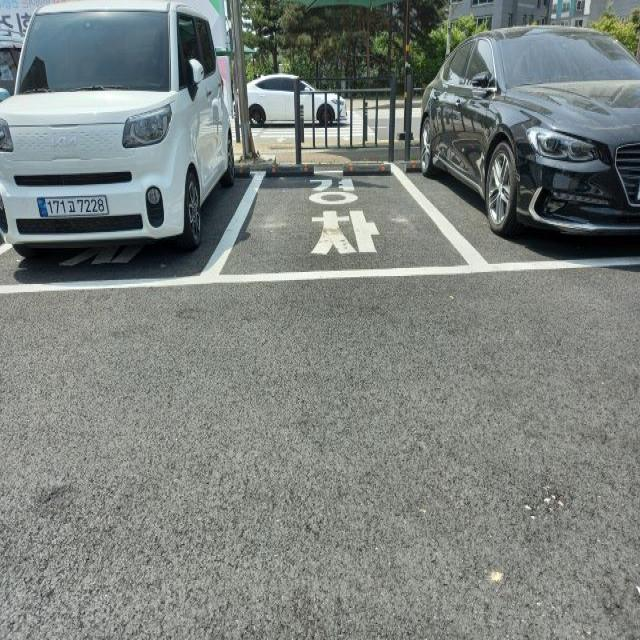empty: (238, 156, 418, 286)
occupied: (0, 0, 236, 263), (414, 19, 640, 246)
